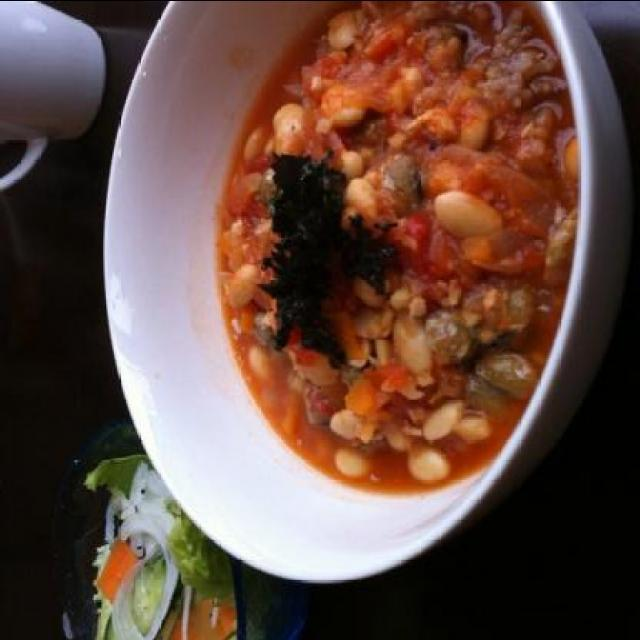Risotto: (200, 7, 582, 471)
